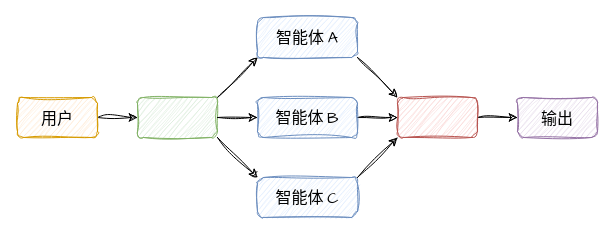
The diagram is 615 pixels wide and 235 high, and some of its shapes have lost their labels. Here are the shapes that lost their labels. From the top down, the centre of each, then its label:
At (x=177, y=117): "路由".
At (x=437, y=117): "合成".
